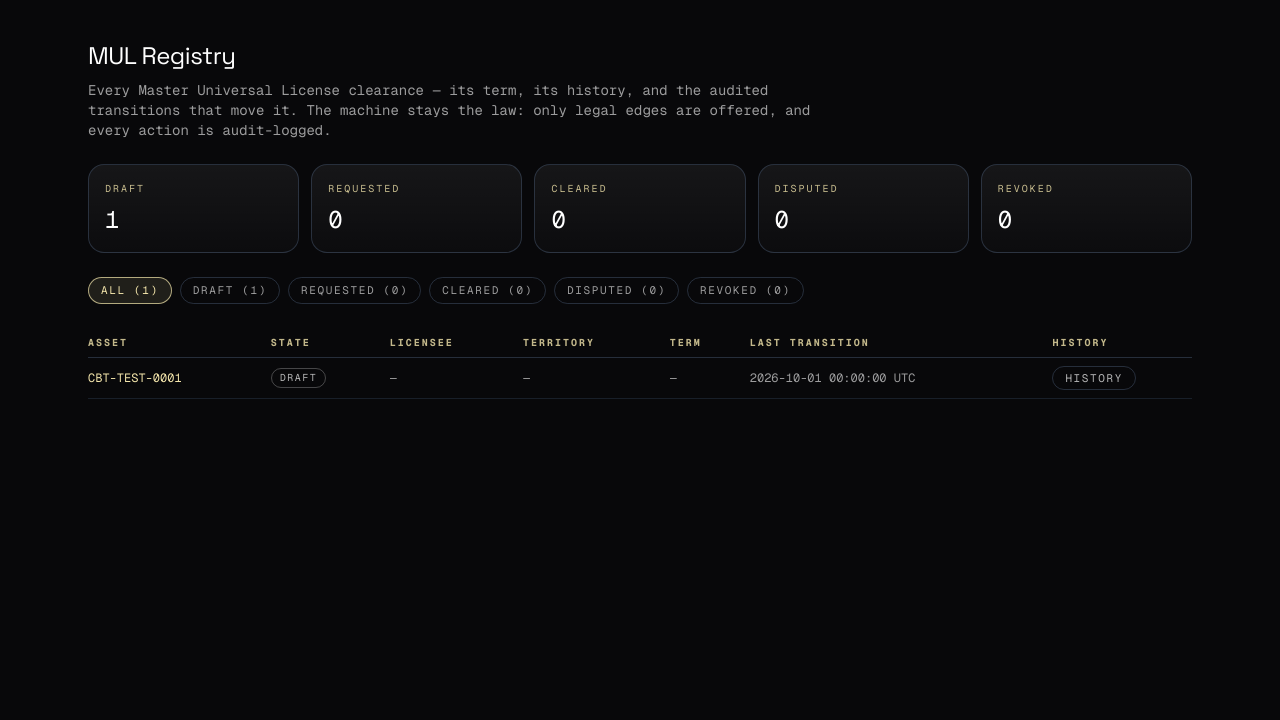
Test case: MulRegistry › surfaces the machine refusal (409) as an error instead of hiding it
This screenshot has width=1280, height=720.
Click the button "History".
click(1094, 378)  # box [1052, 366, 1136, 390]
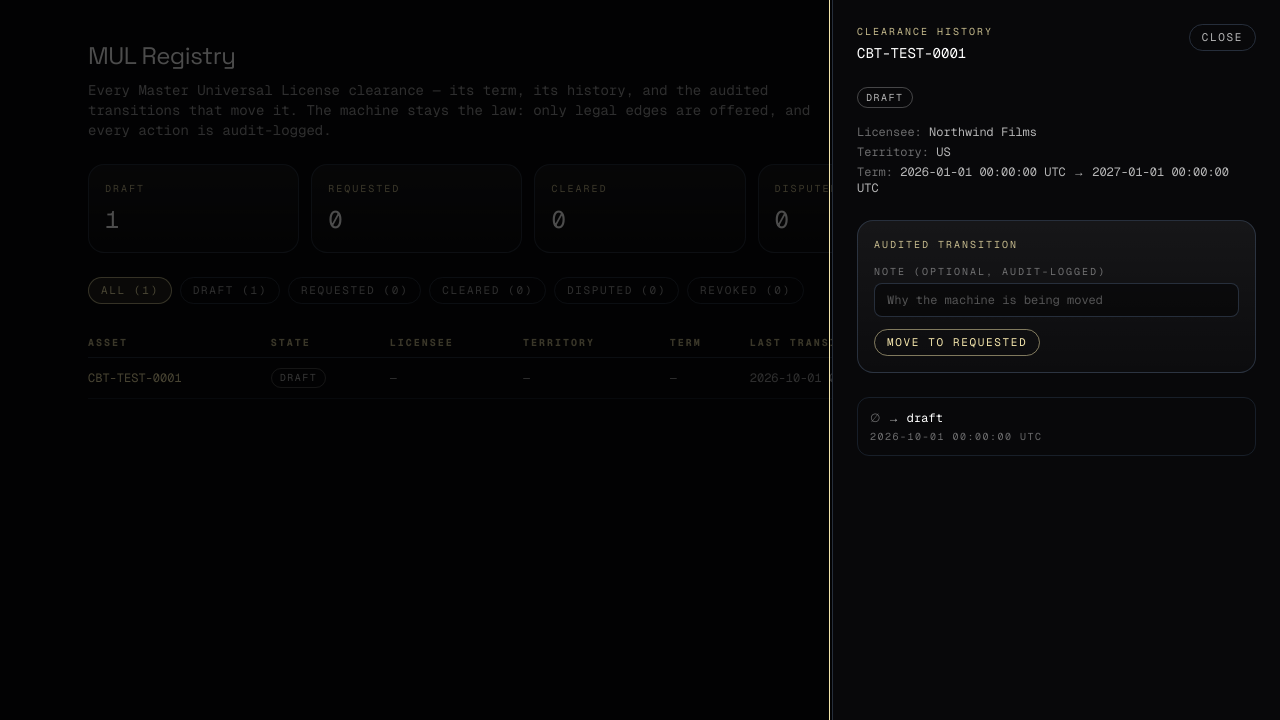
Expected: the button "Move to requested" is shown
Click the button "Move to requested".
click(957, 342)  # box [874, 329, 1040, 356]
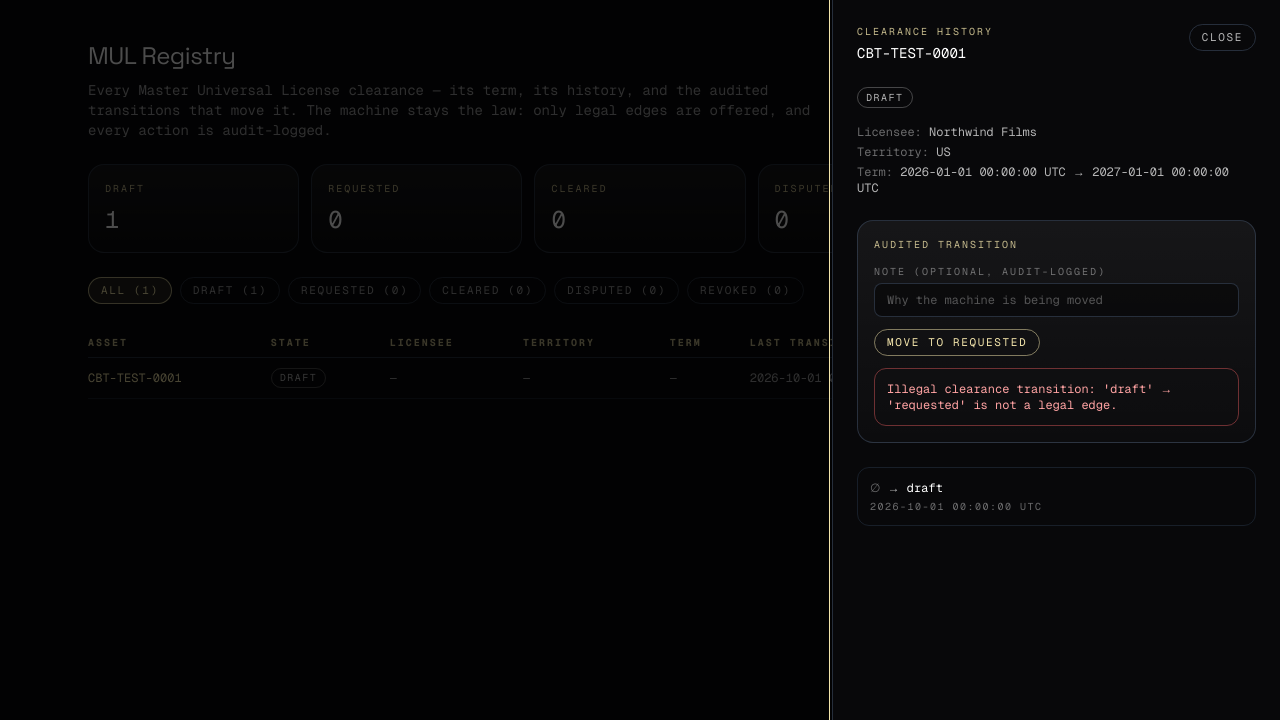
Expected: the row "CBT-TEST-0001 draft — — — 2026-10-01 00:00:00 UTC History" is shown, [88, 357, 1192, 399]
Expected: the text "is not a legal edge" is shown, [887, 380, 1173, 412]
